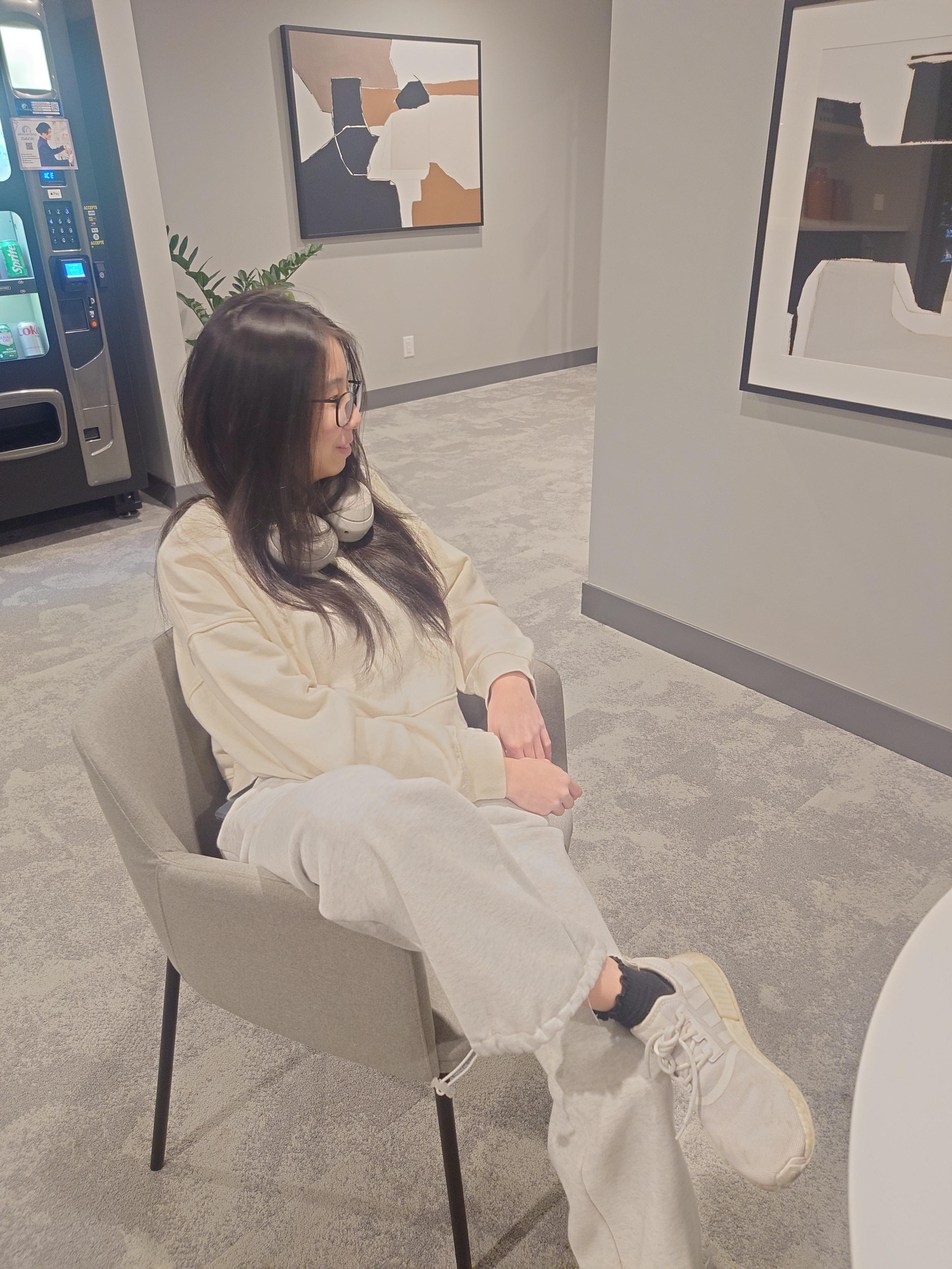BadPosture: (153, 287, 813, 1269)
